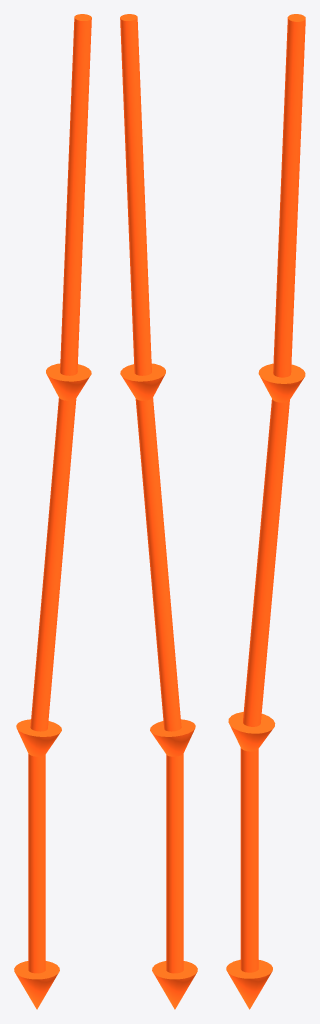
The model's file is jaw_crusher_flow.glb.
3 renders of one model, left to right at view 1: azimuth 30°, elevation 25°; view 2: azimuth 150°, elevation 25°; view 3: azimuth 330°, elevation 25°, orthographic. The views are drawn at different scales.
Visible parts, largest first — view 1: material; view 2: material; view 3: material.
Boxes of the visible parts, x1,y1,x2,y2 form: material: [14, 14, 91, 1009]; material: [120, 14, 197, 1009]; material: [226, 14, 305, 1009].
Size of the model in its own units: 0.144 by 1.83 by 0.078.
